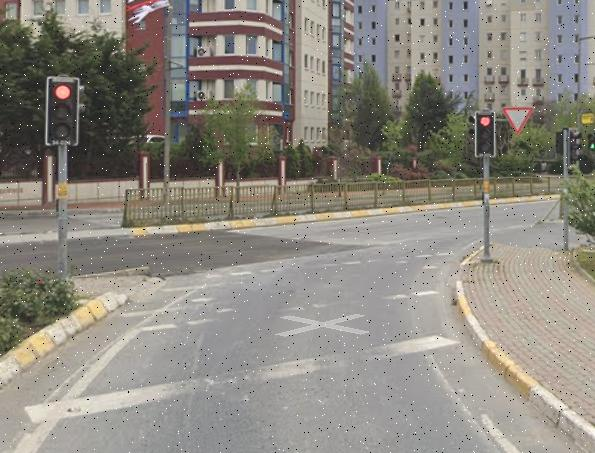redlight: (49, 78, 75, 138), (476, 113, 493, 155)
